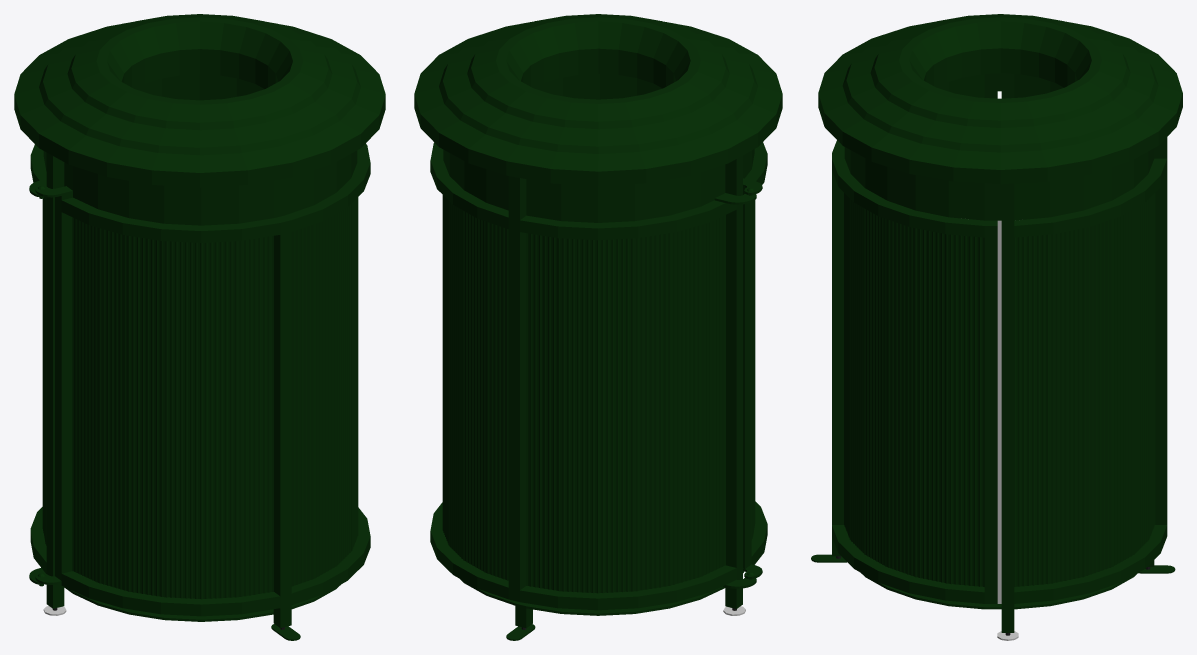
3 views of the same model, side by side, from view 1: azimuth 30°, elevation 25°; view 2: azimuth 150°, elevation 25°; view 3: azimuth 270°, elevation 25° (orthographic).
Visible parts, largest first — view 1: mesh27.001_mesh27-geometry, mesh10.001_mesh10-geometry, mesh26.002_mesh26-geometry, mesh25.001_mesh25-geometry, mesh20.001_mesh20-geometry, mesh13.002_mesh13-geometry, mesh11.001_mesh11-geometry, mesh11.002_mesh11-geometry, mesh22.002_mesh22-geometry, mesh26.001_mesh26-geometry, mesh3.001_mesh3-geometry, mesh1.002_mesh1-geometry (+1 smaller); view 2: mesh26.001_mesh26-geometry, mesh10.001_mesh10-geometry, mesh27.002_mesh27-geometry, mesh25.001_mesh25-geometry, mesh22.002_mesh22-geometry, mesh13.001_mesh13-geometry, mesh1.001_mesh1-geometry, mesh1.002_mesh1-geometry, mesh20.001_mesh20-geometry, mesh27.001_mesh27-geometry, mesh3.001_mesh3-geometry, mesh11.001_mesh11-geometry (+2 smaller); view 3: mesh27.002_mesh27-geometry, mesh26.002_mesh26-geometry, mesh10.001_mesh10-geometry, mesh25.001_mesh25-geometry, mesh22.001_mesh22-geometry, mesh18.001_mesh18-geometry, mesh13.001_mesh13-geometry, mesh13.002_mesh13-geometry, mesh11.001_mesh11-geometry, mesh1.002_mesh1-geometry, mesh1.001_mesh1-geometry, mesh11.002_mesh11-geometry (+2 smaller).
Boxes of the visible parts, x1=… form: mesh27.001_mesh27-geometry: x1=72, y1=217, x2=273, y2=599; mesh10.001_mesh10-geometry: x1=14, y1=14, x2=385, y2=187; mesh26.002_mesh26-geometry: x1=291, y1=197, x2=358, y2=586; mesh25.001_mesh25-geometry: x1=43, y1=74, x2=357, y2=225; mesh20.001_mesh20-geometry: x1=55, y1=193, x2=72, y2=580; mesh13.002_mesh13-geometry: x1=274, y1=232, x2=291, y2=596; mesh11.001_mesh11-geometry: x1=61, y1=143, x2=370, y2=242; mesh11.002_mesh11-geometry: x1=61, y1=507, x2=370, y2=616; mesh22.002_mesh22-geometry: x1=46, y1=153, x2=64, y2=608; mesh26.001_mesh26-geometry: x1=42, y1=198, x2=46, y2=545; mesh3.001_mesh3-geometry: x1=64, y1=585, x2=340, y2=621; mesh1.002_mesh1-geometry: x1=30, y1=92, x2=243, y2=200; mesh26.001_mesh26-geometry: x1=526, y1=215, x2=725, y2=593; mesh10.001_mesh10-geometry: x1=414, y1=14, x2=782, y2=185; mesh27.002_mesh27-geometry: x1=442, y1=195, x2=508, y2=580; mesh25.001_mesh25-geometry: x1=443, y1=74, x2=754, y2=222; mesh22.002_mesh22-geometry: x1=725, y1=155, x2=742, y2=608; mesh13.001_mesh13-geometry: x1=508, y1=229, x2=525, y2=590; mesh1.001_mesh1-geometry: x1=430, y1=502, x2=736, y2=610; mesh1.002_mesh1-geometry: x1=430, y1=142, x2=736, y2=240; mesh20.001_mesh20-geometry: x1=743, y1=187, x2=751, y2=568; mesh27.001_mesh27-geometry: x1=751, y1=200, x2=755, y2=539; mesh3.001_mesh3-geometry: x1=460, y1=571, x2=744, y2=615; mesh11.001_mesh11-geometry: x1=553, y1=91, x2=767, y2=184; mesh27.002_mesh27-geometry: x1=1014, y1=193, x2=1155, y2=586; mesh26.002_mesh26-geometry: x1=844, y1=193, x2=984, y2=586; mesh10.001_mesh10-geometry: x1=818, y1=14, x2=1182, y2=184; mesh25.001_mesh25-geometry: x1=844, y1=73, x2=1154, y2=220; mesh22.001_mesh22-geometry: x1=1001, y1=183, x2=1014, y2=632; mesh18.001_mesh18-geometry: x1=984, y1=220, x2=997, y2=603; mesh13.001_mesh13-geometry: x1=1155, y1=170, x2=1167, y2=524; mesh13.002_mesh13-geometry: x1=832, y1=171, x2=843, y2=524; mesh11.001_mesh11-geometry: x1=832, y1=91, x2=984, y2=237; mesh1.002_mesh1-geometry: x1=1014, y1=91, x2=1167, y2=237; mesh1.001_mesh1-geometry: x1=1014, y1=525, x2=1167, y2=603; mesh11.002_mesh11-geometry: x1=832, y1=525, x2=984, y2=603.
Bounding box in the file's own units: 0.4776 × 0.733 × 0.4843.
